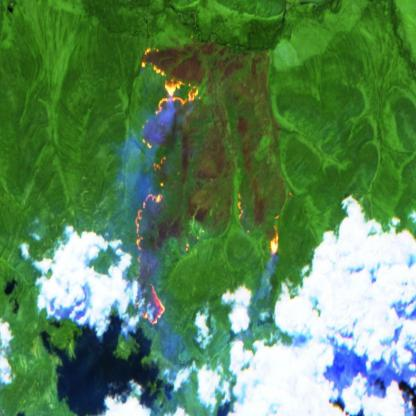fire: (128, 86, 201, 334), (135, 38, 210, 110), (236, 175, 290, 260)
